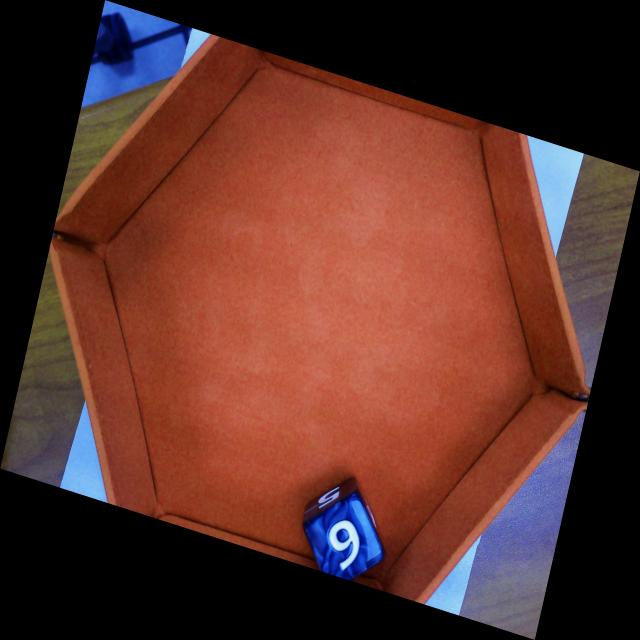dice: (304, 495, 385, 577)
